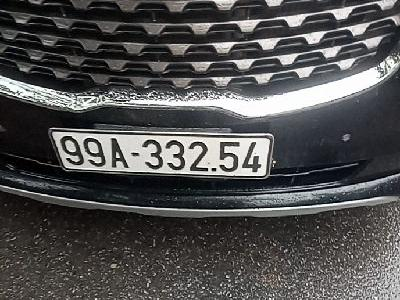lisence: (47, 126, 276, 184)
